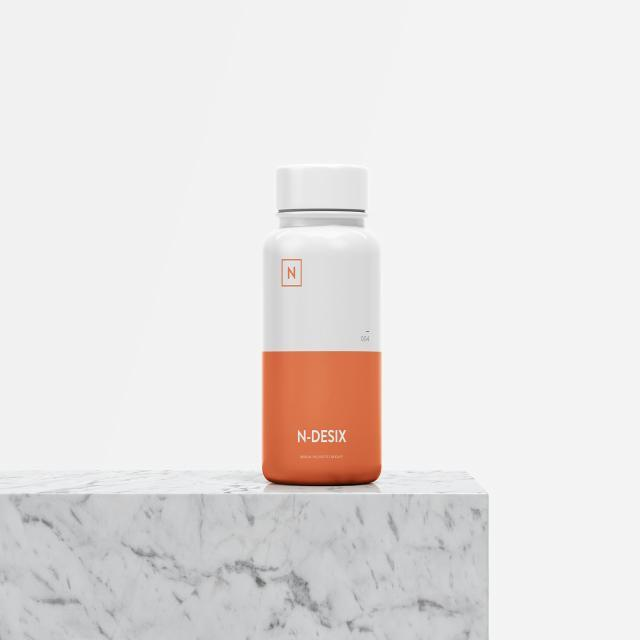jar: (261, 166, 383, 486)
